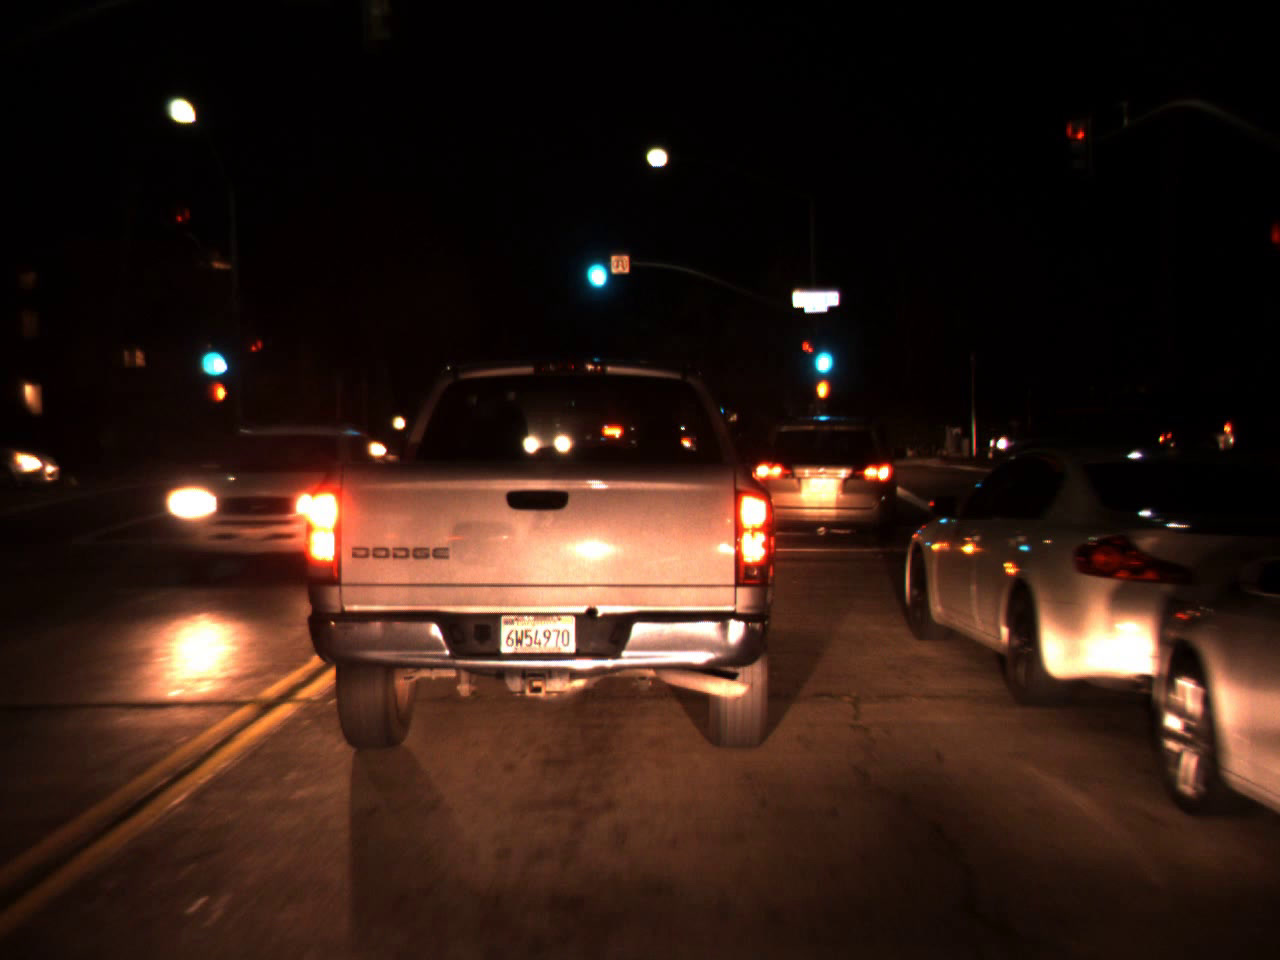go: (579, 233, 611, 296), (194, 326, 230, 380), (808, 324, 836, 381)
